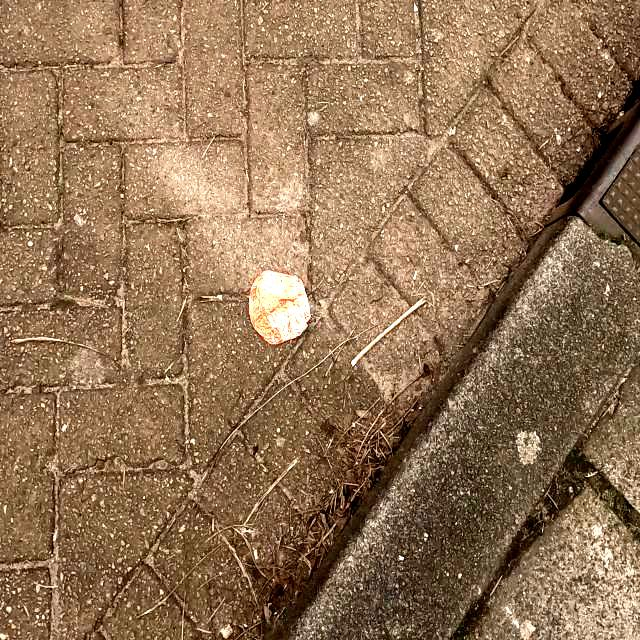Metal: (248, 270, 312, 342)
